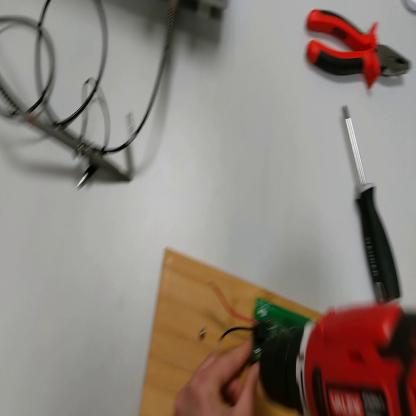electric screwdriver: (260, 289, 416, 415)
hand: (175, 340, 258, 413)
high voltage board: (210, 278, 315, 363)
oscilloscope: (169, 1, 228, 17)
oscilloscope probe tip: (5, 92, 134, 183)
pliers: (305, 7, 414, 87)
screwdriver-: (344, 105, 404, 305)
working area: (145, 243, 318, 416)
